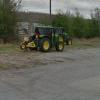Tractor: (18, 24, 80, 68)
